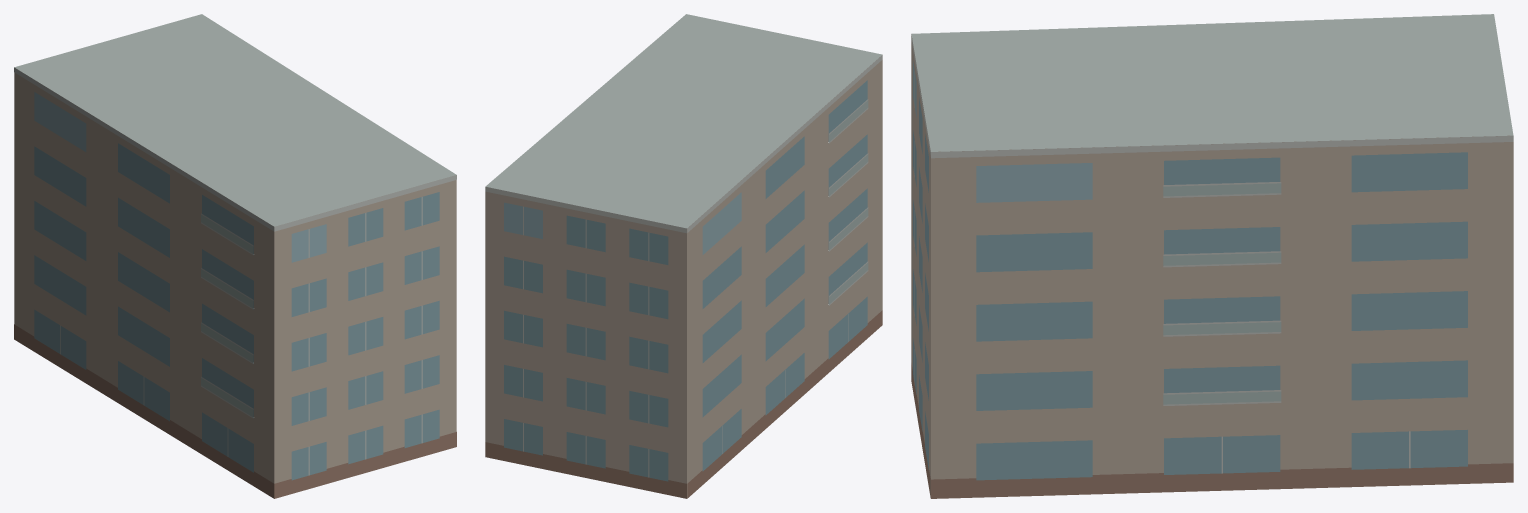
File: survey-upis-32764095.glb
3 renders of one model, left to right at view 1: azimuth 30°, elevation 25°; view 2: azimuth 150°, elevation 25°; view 3: azimuth 270°, elevation 25°, orthographic. The views are drawn at different scales.
Parts seen in each view (by area): view 1: survey-upis-32764095.tmp; view 2: survey-upis-32764095.tmp; view 3: survey-upis-32764095.tmp.
Boxes of the visible parts, x1,y1,x2,y2 form: survey-upis-32764095.tmp: [14, 14, 456, 498]; survey-upis-32764095.tmp: [485, 14, 882, 498]; survey-upis-32764095.tmp: [911, 14, 1513, 498].
Bounding box in the file's own units: 11.53 × 13.5 × 21.25.
